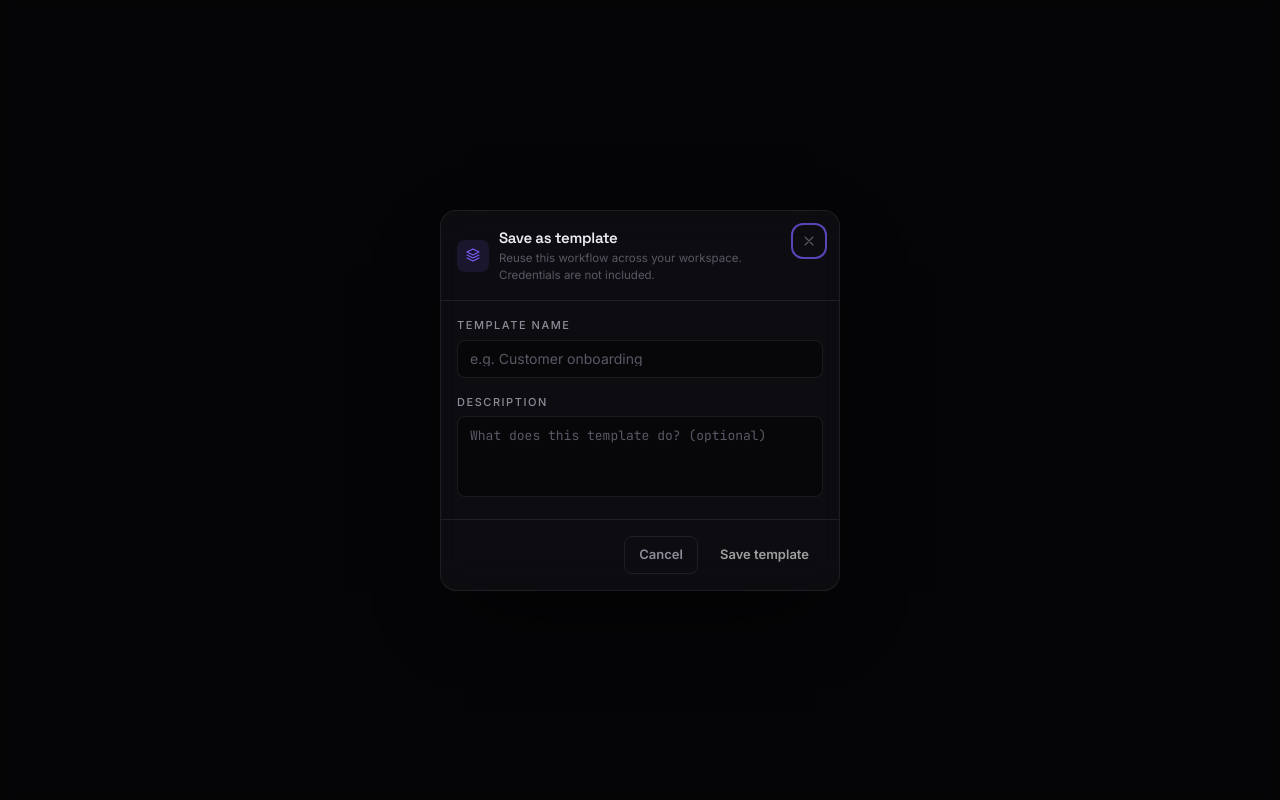
Test case: SaveAsTemplateDialog › disables saving when there is no workflow or name
The image size is (1280, 800).
Expected: the button "Save template" is disabled, [706,537,823,572]
Type "Now valid" into the field labelled "Template name" at {"x": 640, "y": 358}, box [457,339,823,377]
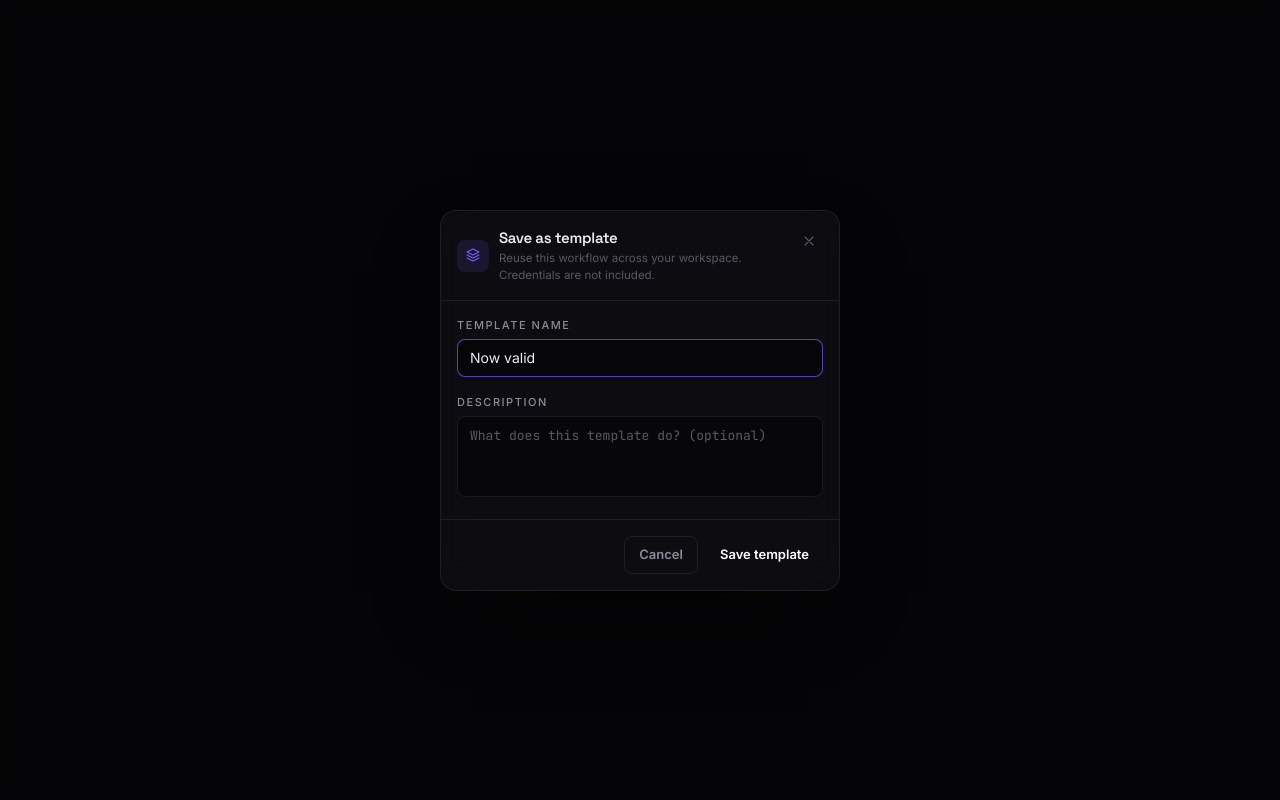
Expected: the button "Save template" is enabled, [706,537,823,572]
